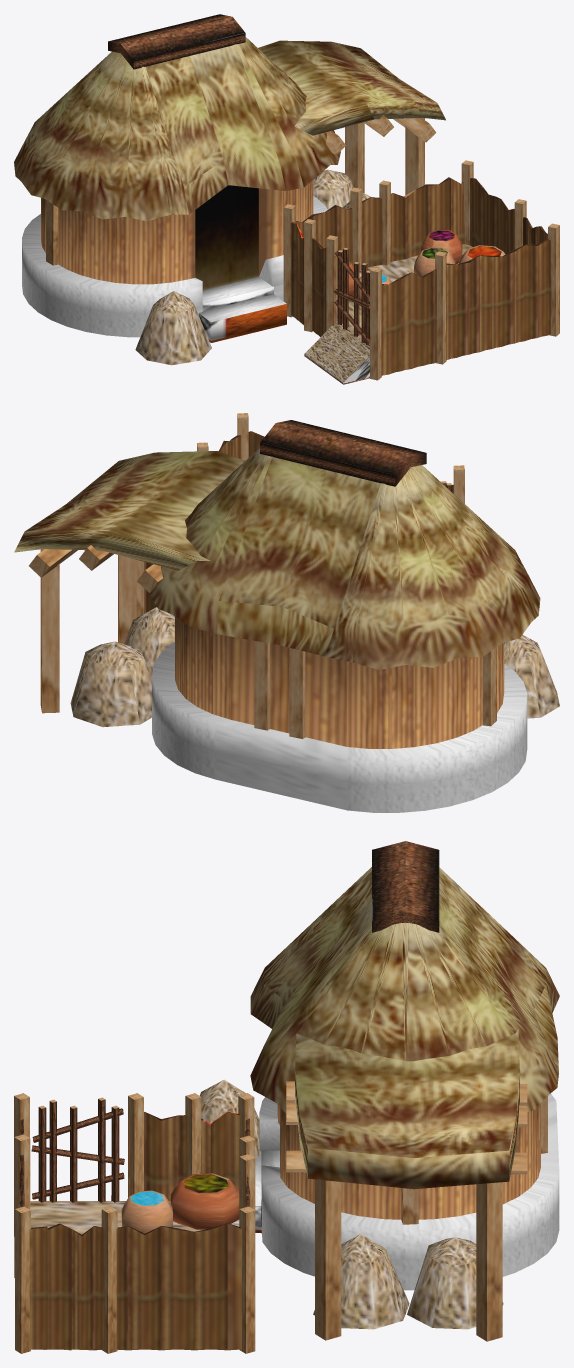
The model's file is corral_1.dae.
3 views of the same model, one above another, from view 1: azimuth 30°, elevation 25°; view 2: azimuth 150°, elevation 25°; view 3: azimuth 270°, elevation 25° (orthographic). The views are drawn at different scales.
Visible parts, largest first — view 1: corral_1; view 2: corral_1; view 3: corral_1.
Part boxes in pixels (bbox=[...]): corral_1: bbox=[14, 14, 559, 384]; corral_1: bbox=[14, 413, 559, 812]; corral_1: bbox=[14, 841, 559, 1353].
Size of the model in its own units: 14.39 by 13.72 by 9.18.
